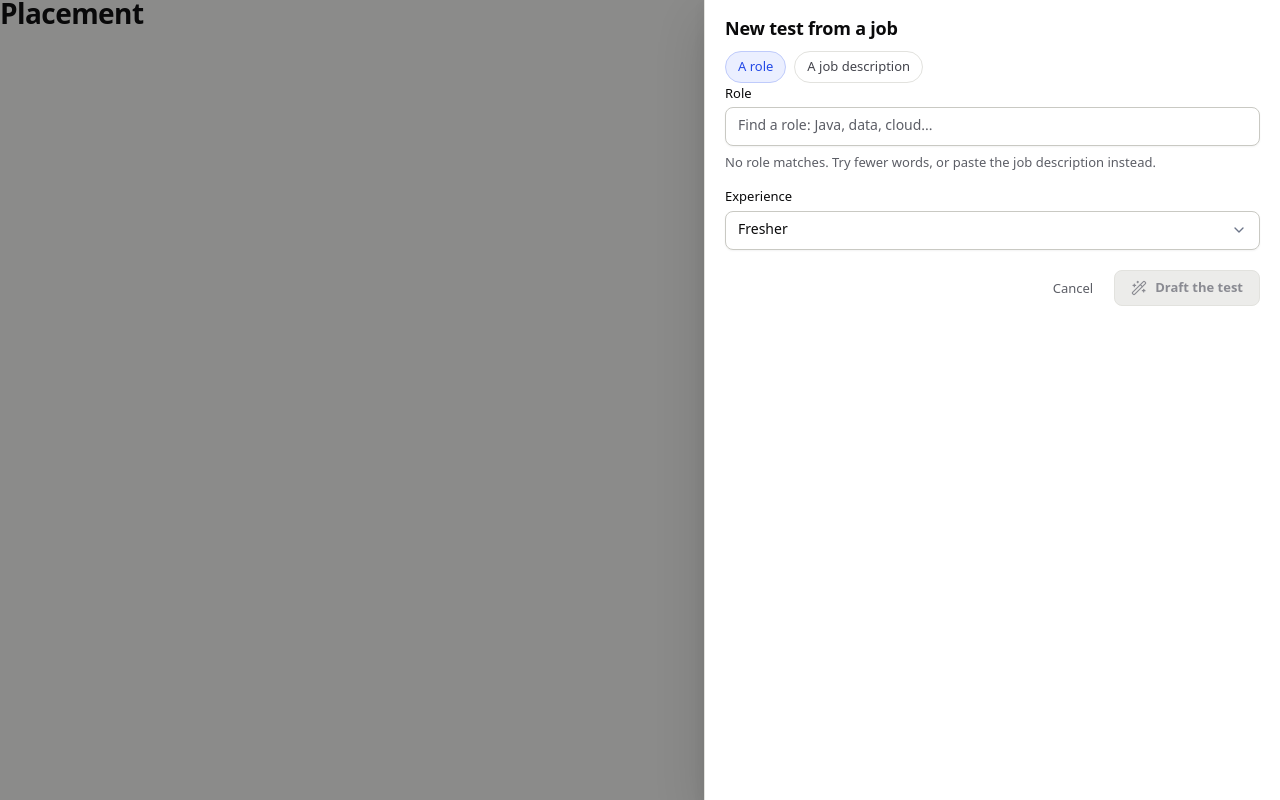
Test: a test from a job › says plainly when the month's AI spend is used up
Click the radio button labelled "A job description". click: (859,66)
box: [794, 50, 923, 82]
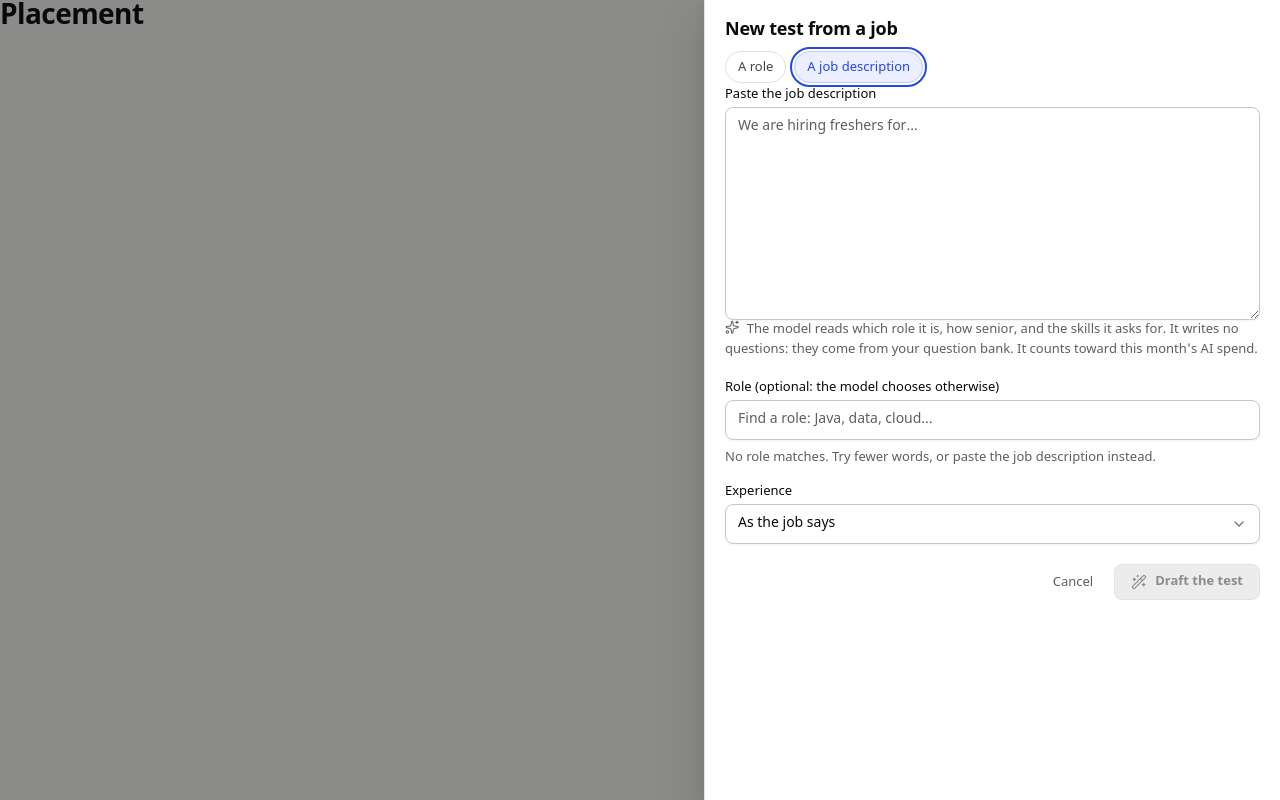
Type "Freshers for a support desk role." into the text box labelled "Paste the job description". click: (992,213)
box: [725, 107, 1260, 320]
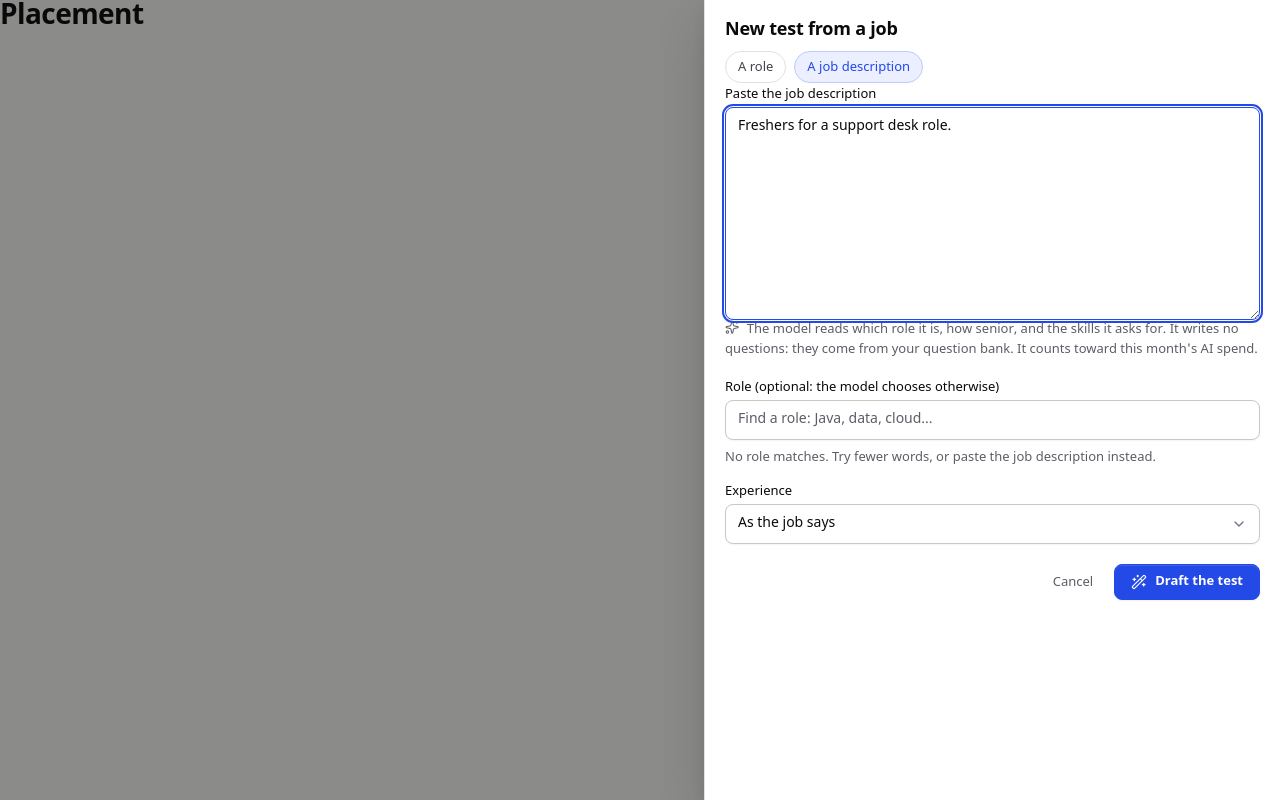
Click the button "Draft the test". click: (1187,582)
box: [1114, 564, 1260, 600]
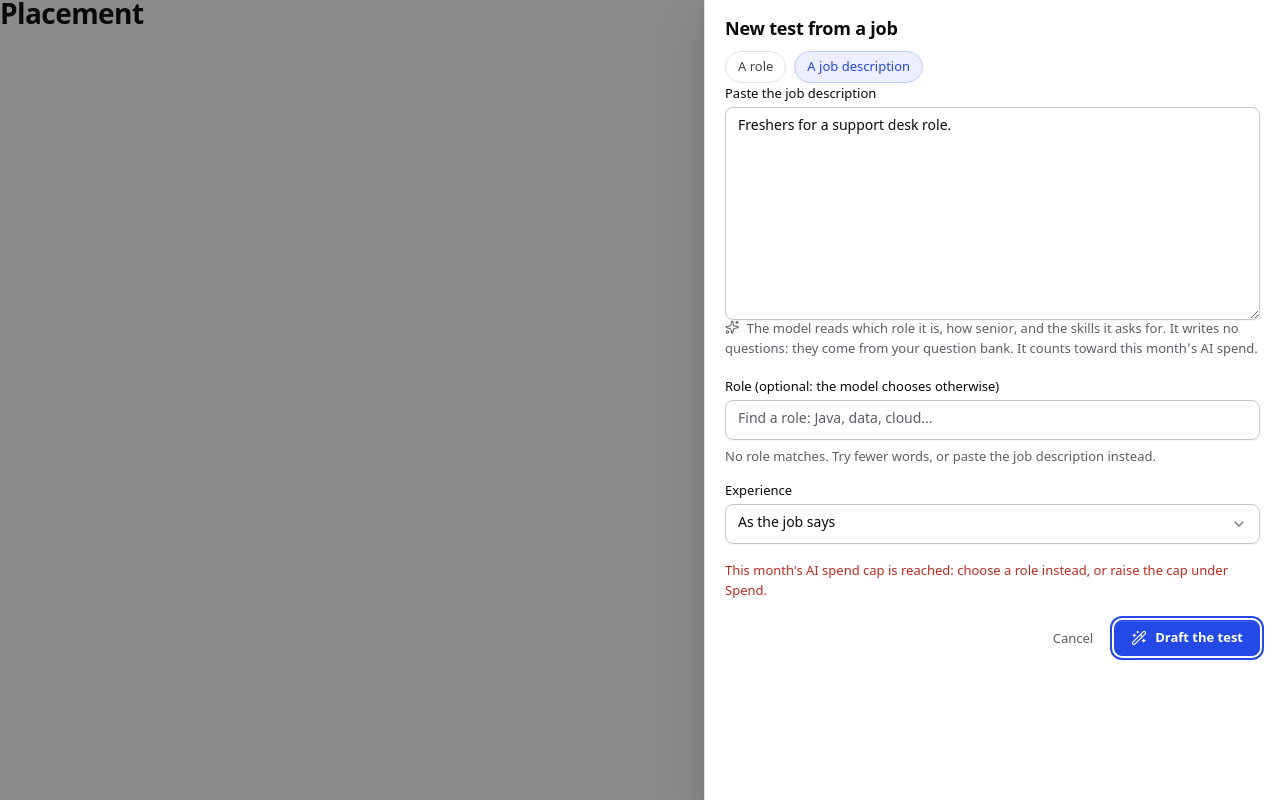
Check: the message shows "spend cap is reached: choose a role instead", box [725, 561, 1228, 599]
